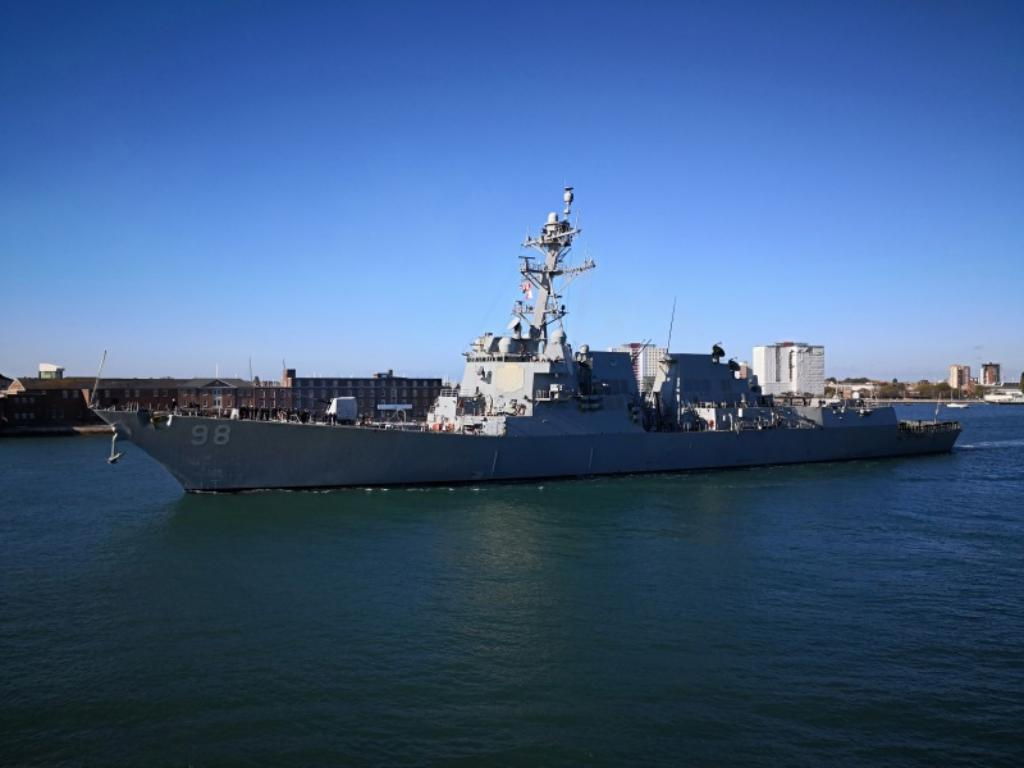Warship: (88, 183, 968, 495)
